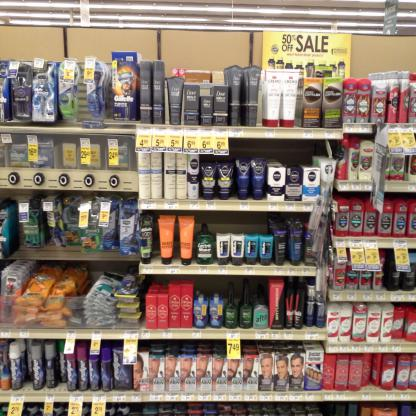Void: (228, 140, 316, 162), (216, 212, 272, 230), (198, 276, 264, 291)
